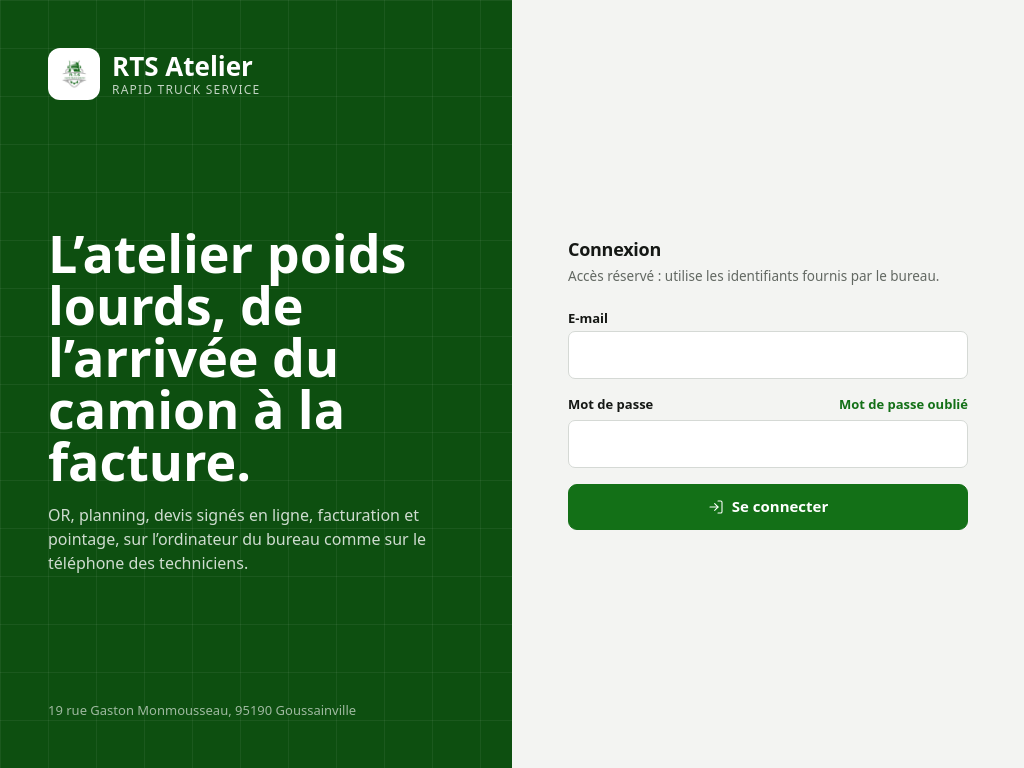
Test case: LoginPage › envoie le lien de réinitialisation du mot de passe
Click the button "Mot de passe oublié": (903,404) [839, 395, 968, 414]
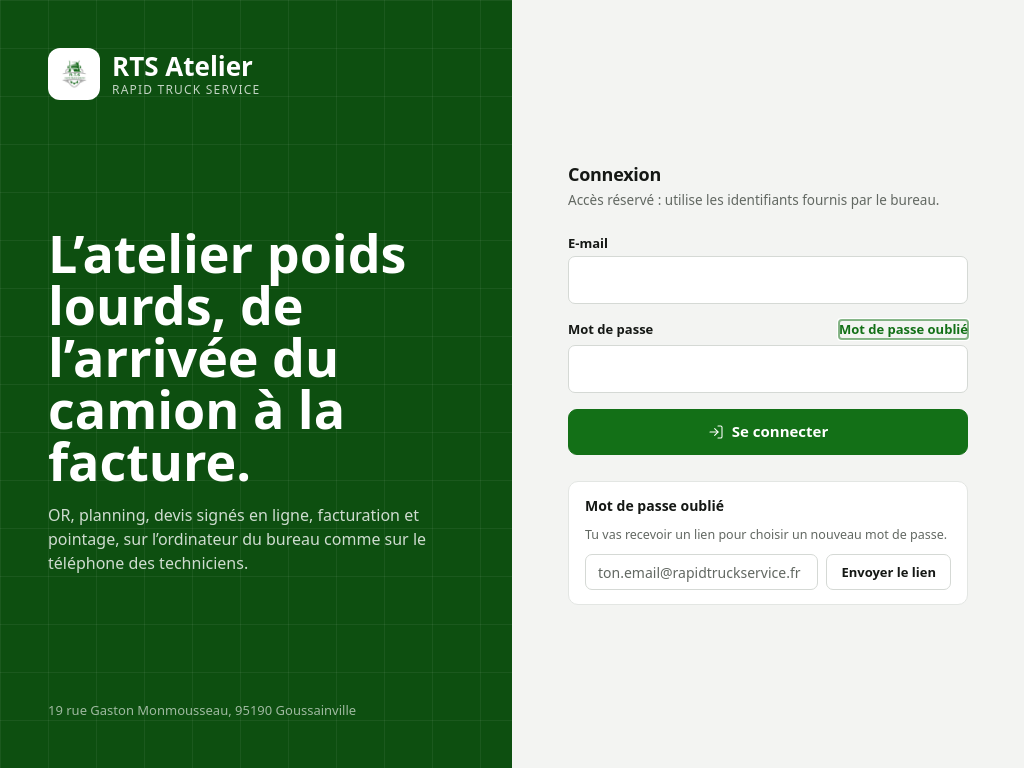
In the field named "E-mail du compte": (702,572) [585, 554, 818, 590], type "tech@rts.fr"
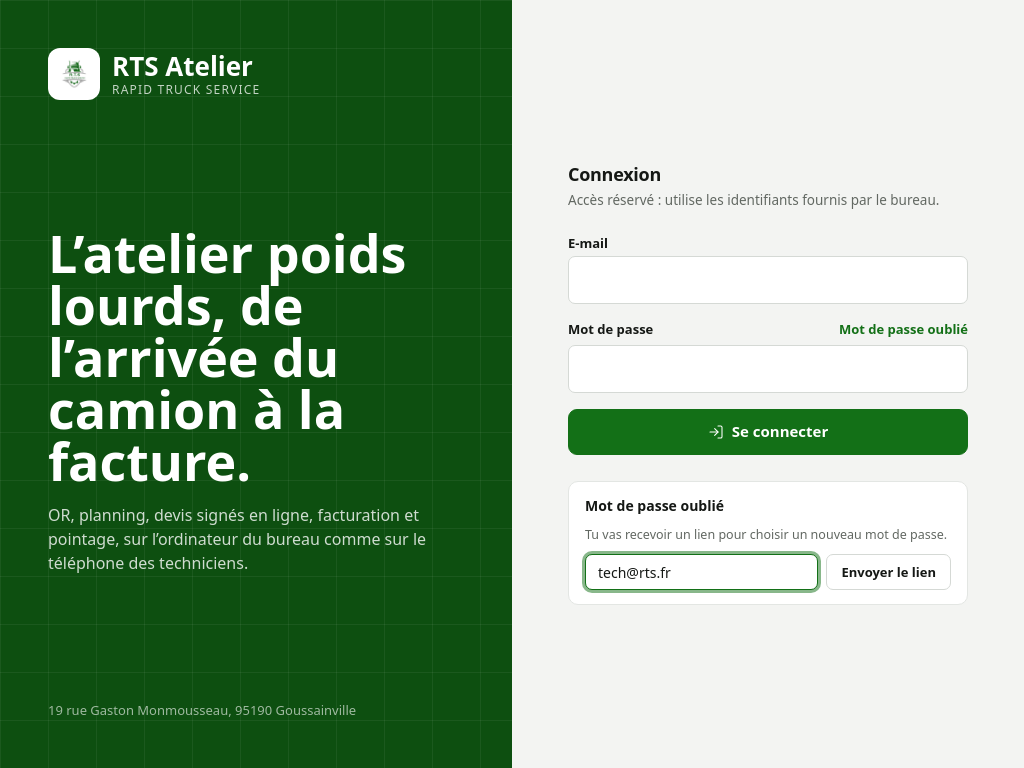
Click the button "Envoyer le lien": (889,572) [826, 554, 951, 590]
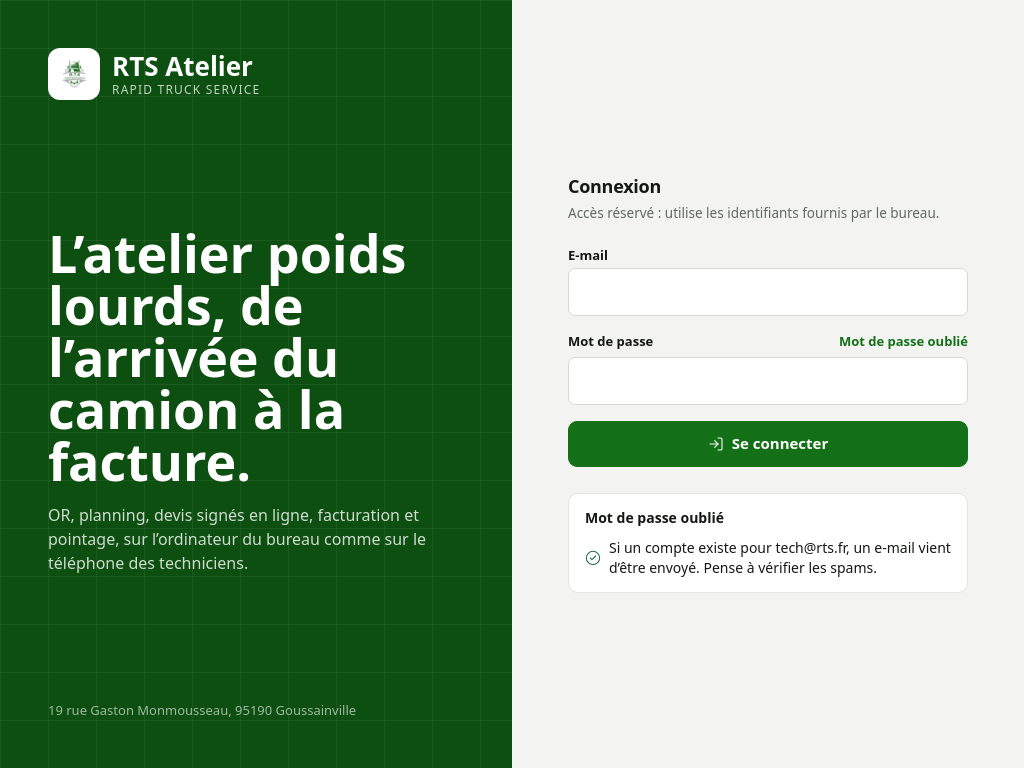
Expected: the text "un e-mail vient d’être envoyé" is shown, [609, 538, 951, 577]
